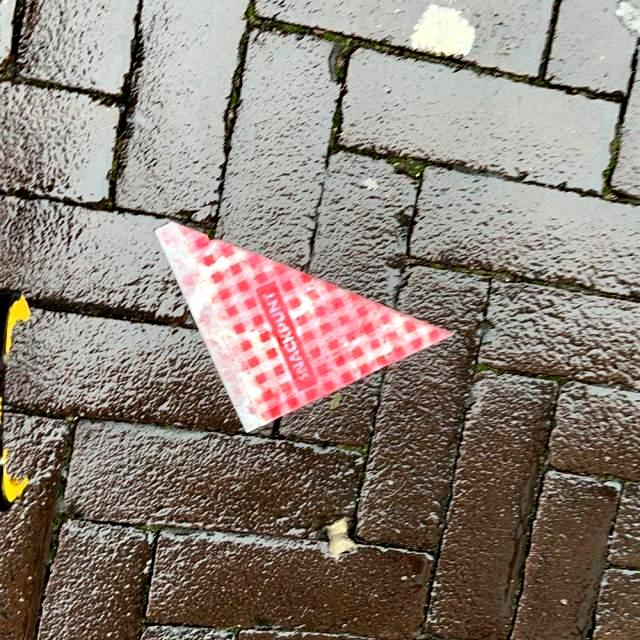Paper: (152, 218, 456, 436)
